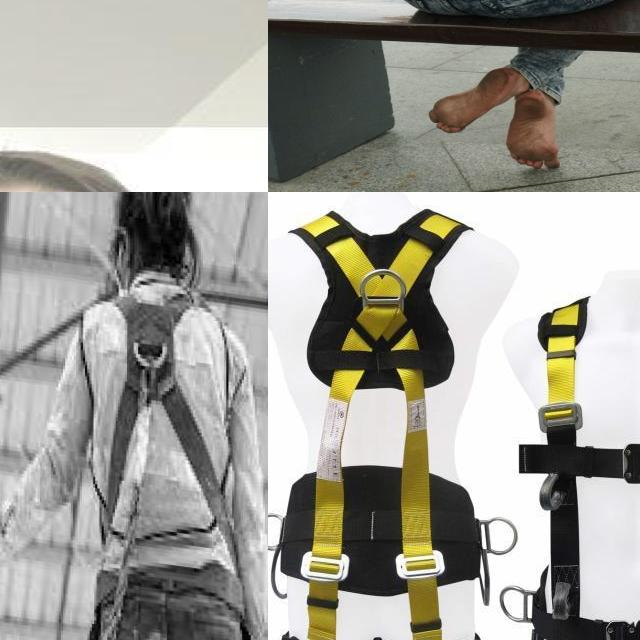Barefoots: (429, 67, 519, 133), (506, 90, 560, 169)
Harness: (280, 209, 480, 640), (533, 299, 640, 640), (111, 294, 229, 535)
head_nohelmet: (0, 153, 147, 192)
person: (0, 127, 268, 192)
